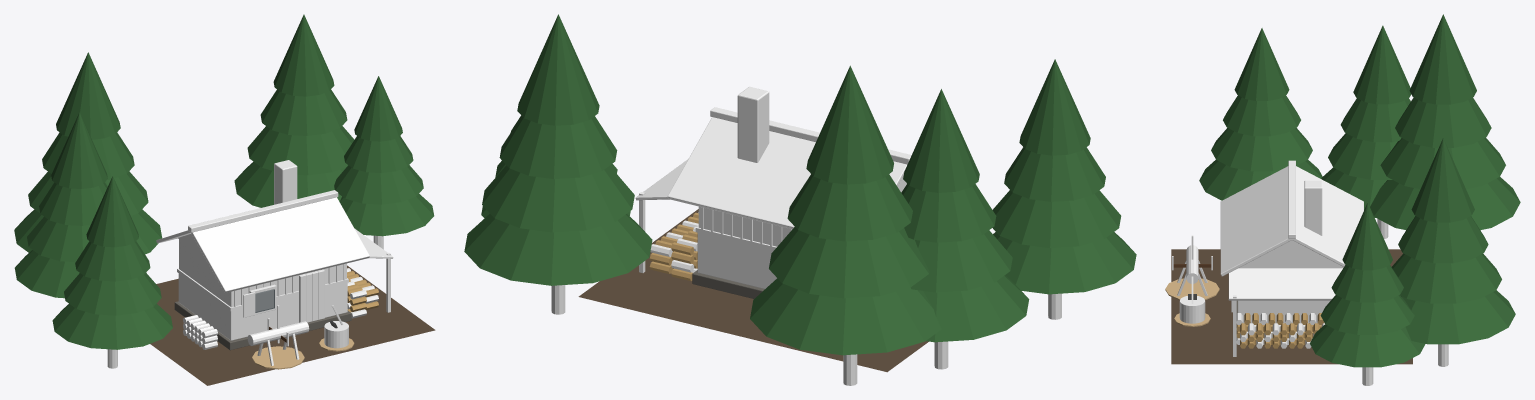
File: oduncu.glb
3 views of the same model, side by side, from view 1: azimuth 30°, elevation 25°; view 2: azimuth 150°, elevation 25°; view 3: azimuth 270°, elevation 25° (orthographic). The views are drawn at different scales.
Visible parts, largest first — view 1: Alinlik; view 2: Alinlik; view 3: Alinlik.
Boxes of the visible parts, <box> form: Alinlik: <box>14,14,435,385</box>; Alinlik: <box>464,14,1136,385</box>; Alinlik: <box>1165,14,1520,385</box>.
Size of the model in its own units: 1 by 0.5408 by 0.7171.
